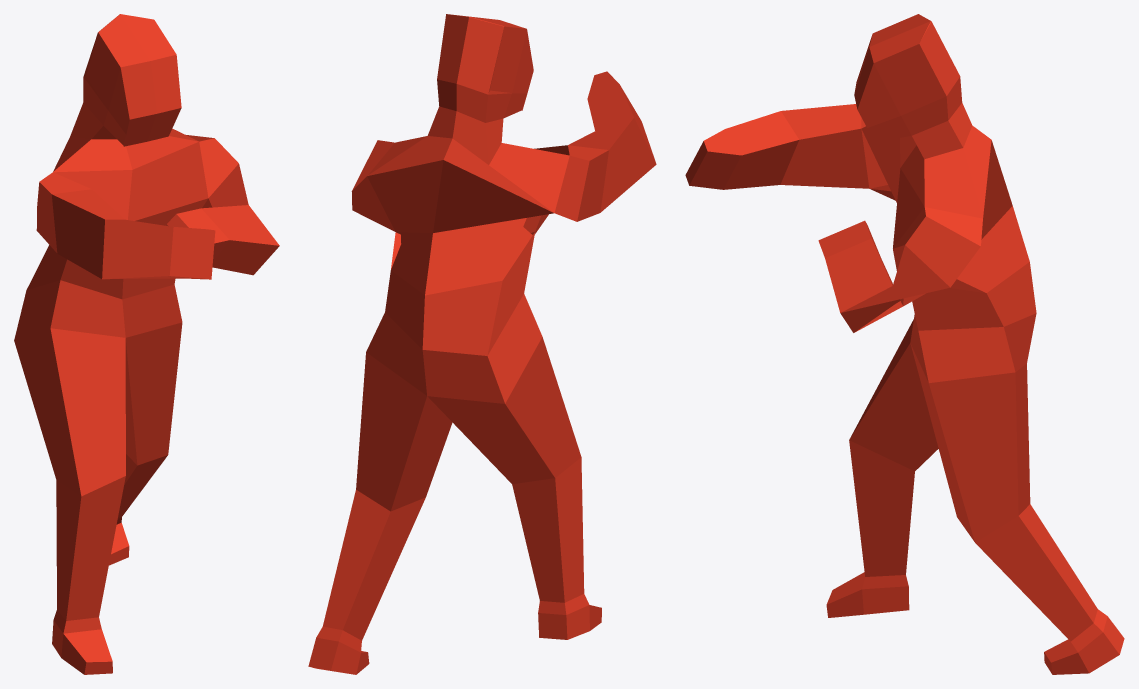
The model's file is Player_Right_Hook.fbx.
3 views of the same model, side by side, from view 1: azimuth 30°, elevation 25°; view 2: azimuth 150°, elevation 25°; view 3: azimuth 270°, elevation 25° (orthographic). The views are drawn at different scales.
Parts seen in each view (by area): view 1: Person; view 2: Person; view 3: Person.
Part boxes in pixels (<box>): Person: <box>14,14,279,674</box>; Person: <box>308,14,656,674</box>; Person: <box>685,14,1124,674</box>.
Bounding box in the file's own units: 312 × 833 × 530.
